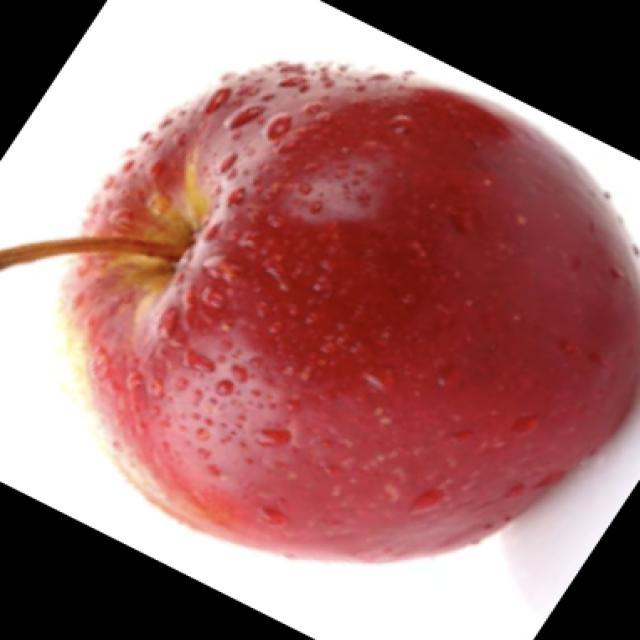Apple: (0, 58, 639, 564)
